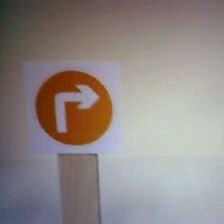right: (23, 59, 121, 150)
